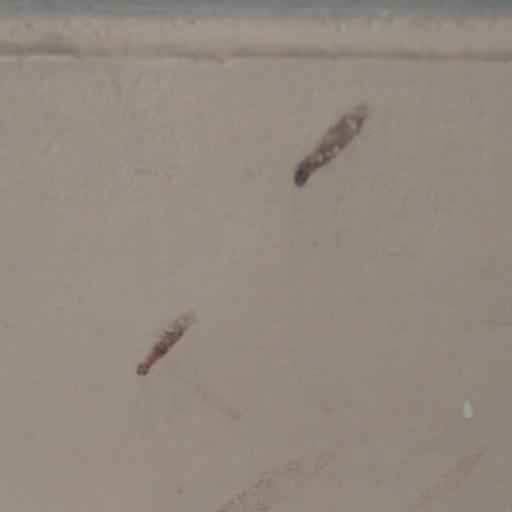stain: (214, 421, 512, 512), (259, 84, 395, 214), (111, 294, 233, 391)
